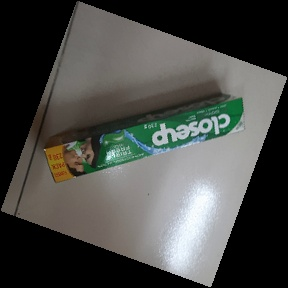CloseUp Xanh: (45, 93, 245, 185)
